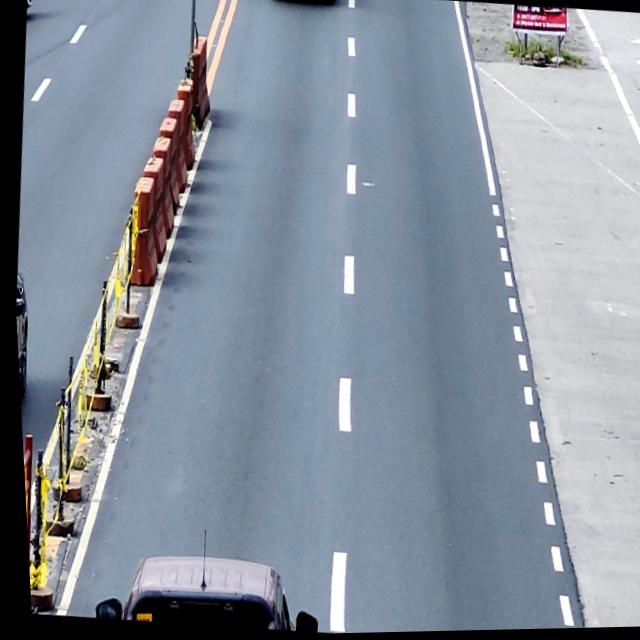Car: (84, 544, 316, 637), (11, 271, 33, 405)
